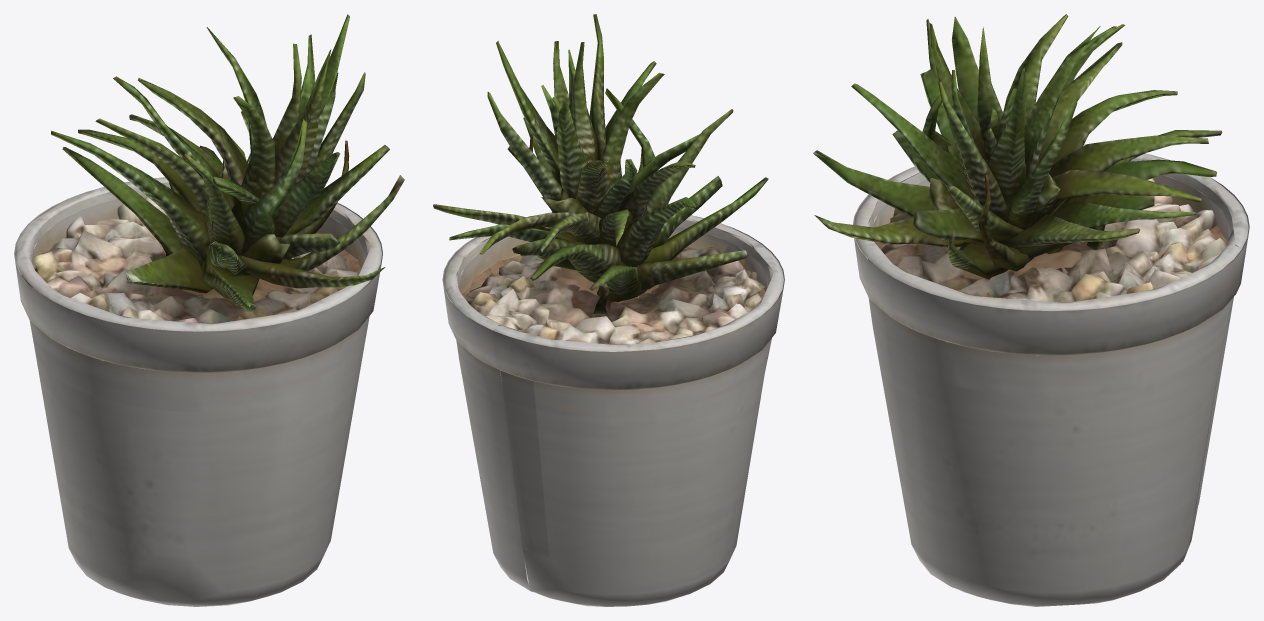
Rendered from succulent.glb.
The picture shows the model from 3 angles, left to right: view 1: azimuth 30°, elevation 25°; view 2: azimuth 150°, elevation 25°; view 3: azimuth 270°, elevation 25°; orthographic projection. The views are drawn at different scales.
Parts seen in each view (by area): view 1: potted_plant_04_ground; view 2: potted_plant_04_ground; view 3: potted_plant_04_ground.
Boxes of the visible parts, x1,y1,x2,y2 form: potted_plant_04_ground: (14,14,404,606); potted_plant_04_ground: (433,14,784,606); potted_plant_04_ground: (813,14,1249,606).
Bounding box in the file's own units: 0.168 × 0.2676 × 0.1846.
Materials: 1 (1 with a texture image).
